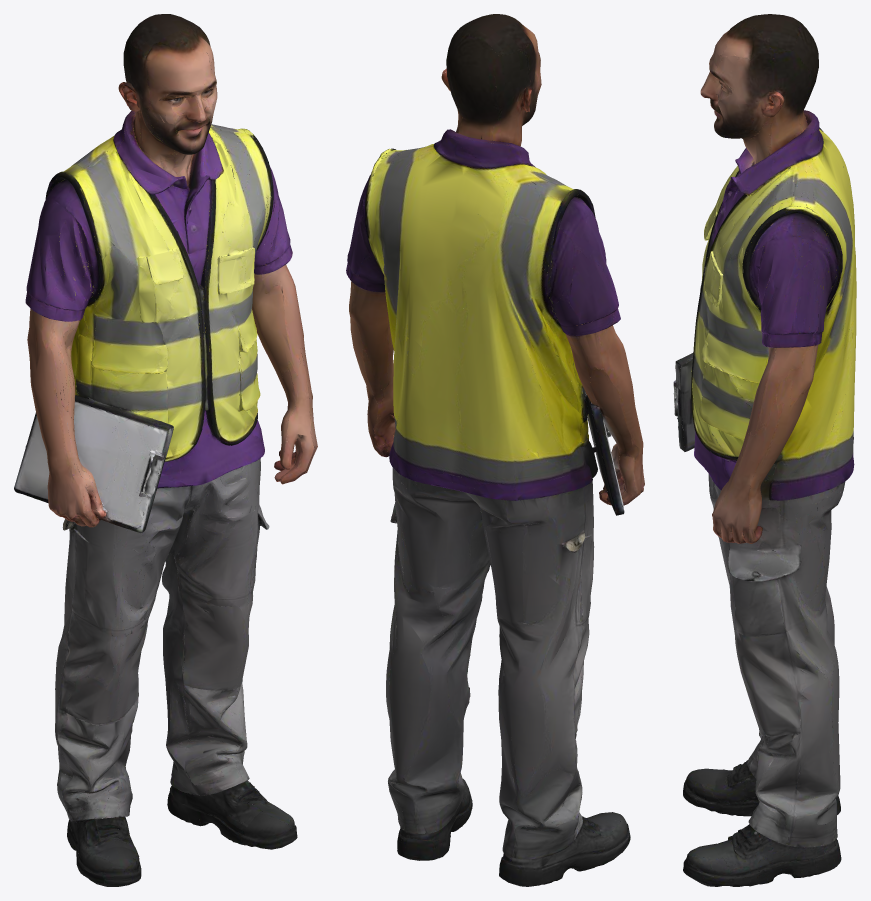
The model's file is surveyor.glb.
3 views of the same model, side by side, from view 1: azimuth 30°, elevation 25°; view 2: azimuth 150°, elevation 25°; view 3: azimuth 270°, elevation 25° (orthographic).
Parts seen in each view (by area): view 1: node_0; view 2: node_0; view 3: node_0.
Part boxes in pixels (<box>): node_0: <box>14,14,317,886</box>; node_0: <box>346,14,644,886</box>; node_0: <box>673,14,856,886</box>.
Size of the model in its own units: 0.4087 by 1.16 by 0.2336.
Materials: 1 (1 with a texture image).
